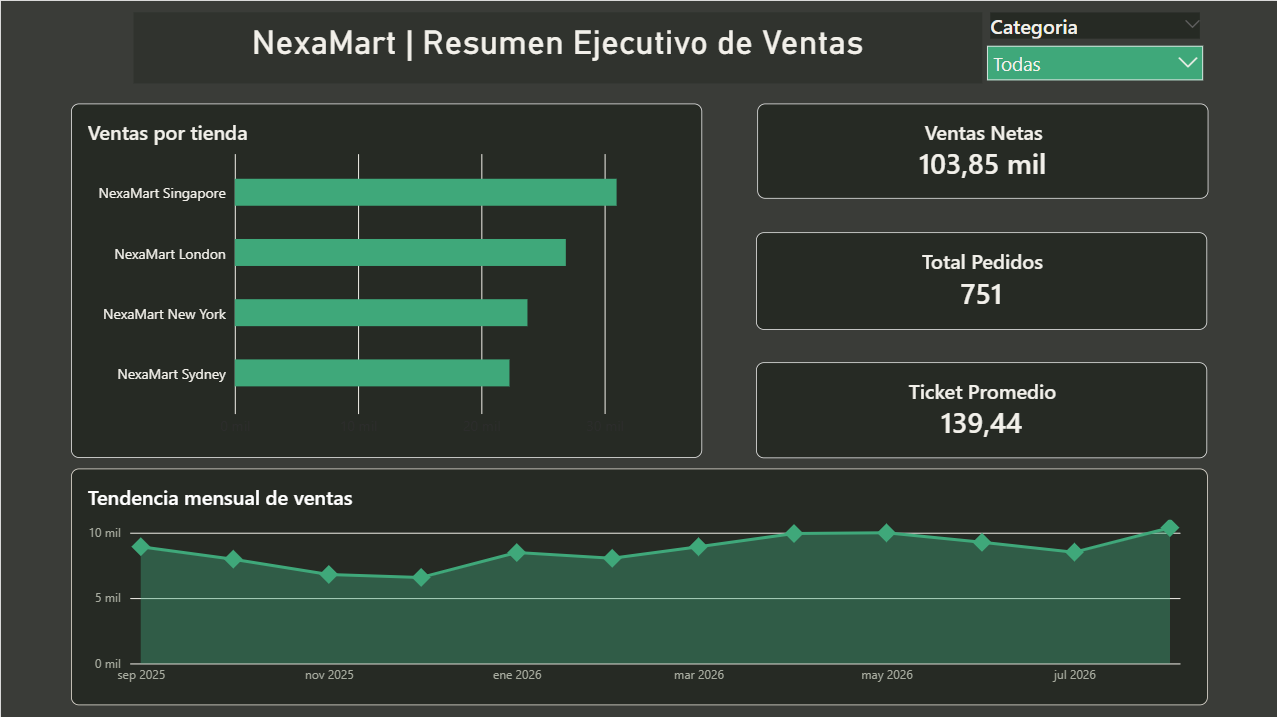

This screenshot's page, from the dashboard's own definition file:
{"tool":"powerbi","page":{"name":"NexaMart | Resumen Ejecutivo de Ventas","canvas":[1280,720],"ordinal":0},"visuals":[{"type":"card","title":"Ventas Netas","fields":{"Values":["Medidas.Ventas Totales"]},"box":[756.4,102.5,451.2,95.3],"z":0},{"type":"card","title":"Ticket Promedio","fields":{"Values":["Medidas.Ticket Promedio"]},"box":[755.1,361.4,451.4,95.7],"z":1000},{"type":"card","title":"Total Pedidos","fields":{"Values":["Medidas.Total Pedidos"]},"box":[755.2,231.6,451.2,97.7],"z":2000},{"type":"lineChart","title":"Tendencia mensual de ventas","fields":{"Category":["DimCalendario.Año-Mes"],"Y":["Medidas.Ventas Totales"]},"box":[70,467.1,1137.1,237.1],"z":3000},{"type":"barChart","title":"Ventas por tienda","fields":{"Category":["nexamart dimtienda.nombre_tienda"],"Y":["Medidas.Ventas Totales"]},"box":[70,102.9,631.4,354.3],"z":4000},{"type":"textbox","box":[132.9,11.4,848.6,71.4],"z":5000},{"type":"slicer","fields":{"Values":["nexamart dimproducto.categoria"]},"box":[981.4,11.4,225.7,71.4],"z":6000}]}

Visuals, with their boxes in screenshot pixels (x1, y1, x2, y2), scaled from the page's 1280x720 canvas onto the 1277x717 screenshot:
"Ventas Netas" card: [755,102,1205,197]
"Ticket Promedio" card: [753,360,1204,455]
"Total Pedidos" card: [753,231,1204,328]
"Tendencia mensual de ventas" lineChart: [70,465,1204,701]
"Ventas por tienda" barChart: [70,102,700,455]
textbox: [133,11,979,82]
slicer - nexamart dimproducto.categoria: [979,11,1204,82]
